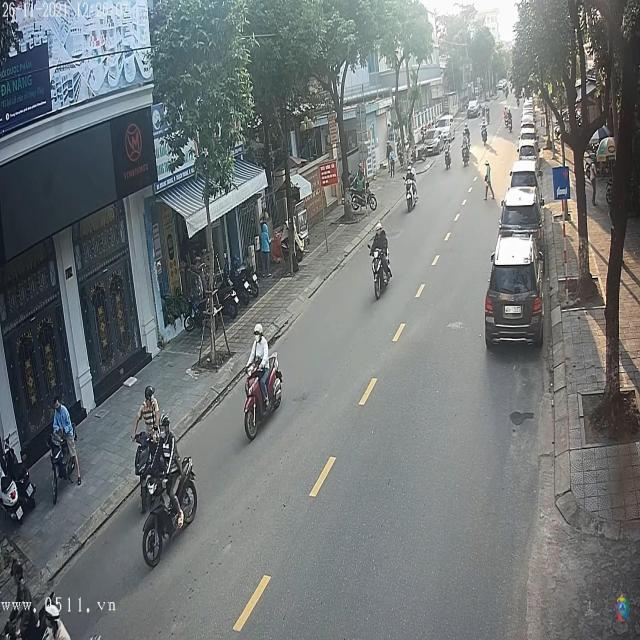car: (486, 228, 544, 350)
motorcycle: (138, 452, 200, 565), (242, 348, 284, 446), (371, 236, 394, 302), (405, 177, 419, 216)
